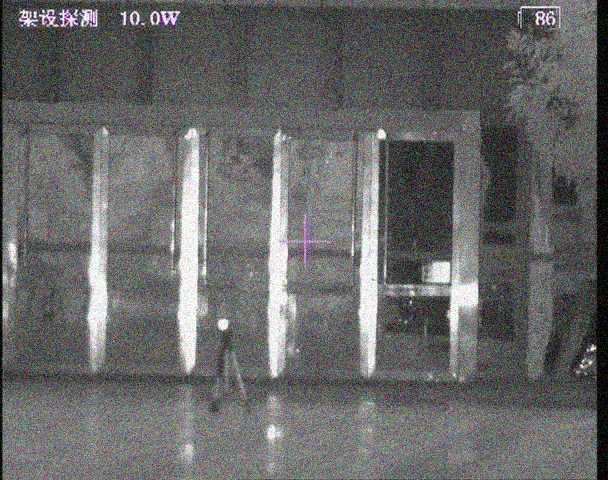my: (215, 318, 229, 331)
